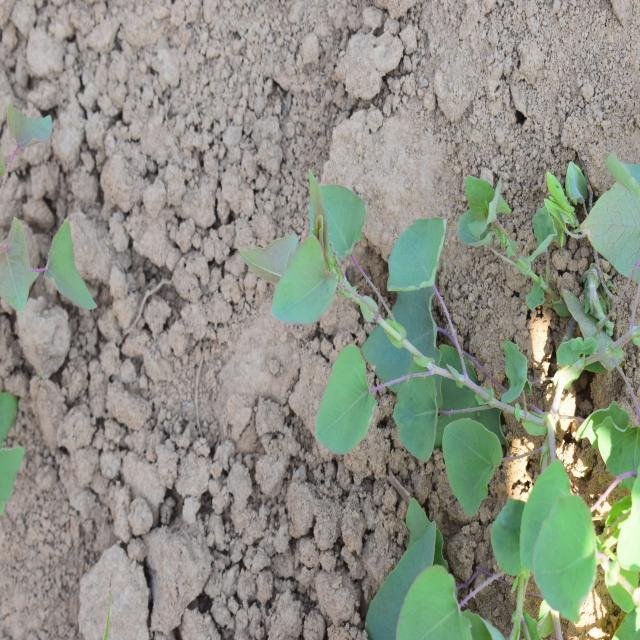Asiatic_Smartweed: (270, 186, 462, 463), (446, 414, 604, 613)
